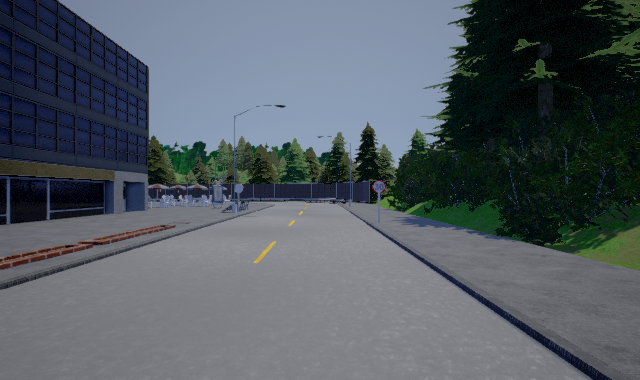traffic_sign: (372, 180, 386, 193)
